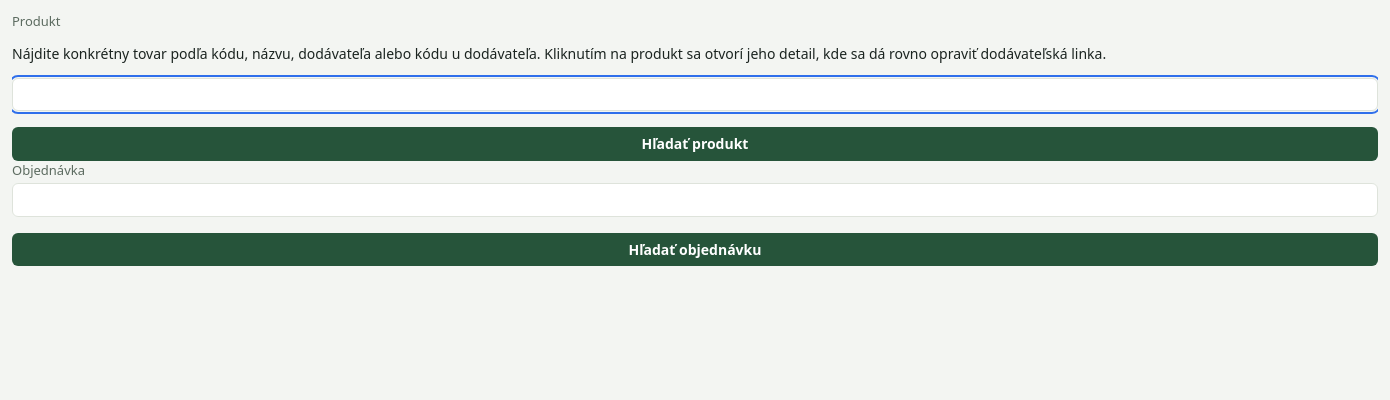
späť z detailu vráti na hľadanie
In the search field labelled "Produkt": point(695, 95) top-left (12, 78), bottom-right (1378, 111), type "PD-1"
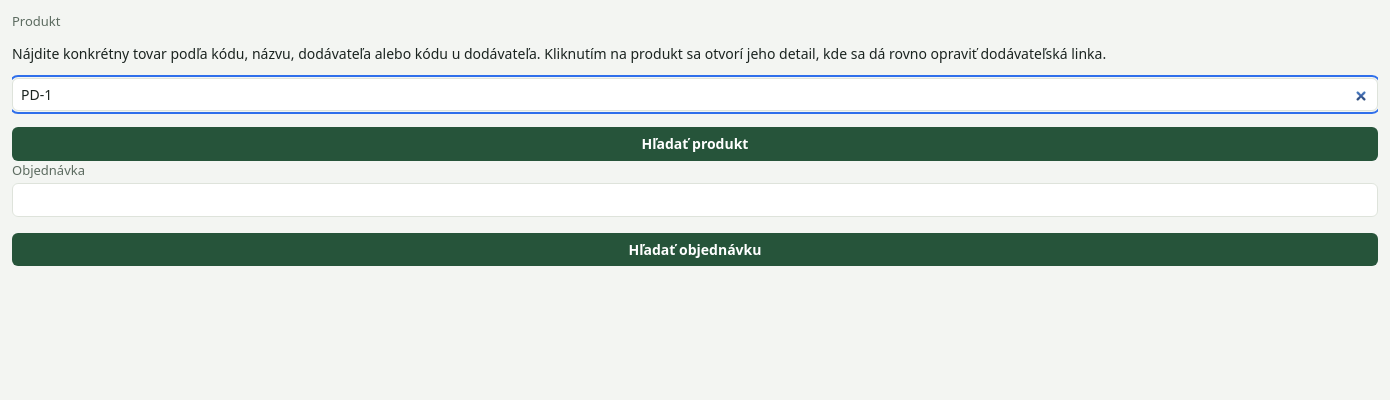
Click the button "Hľadať produkt": point(695, 144) top-left (12, 127), bottom-right (1378, 161)
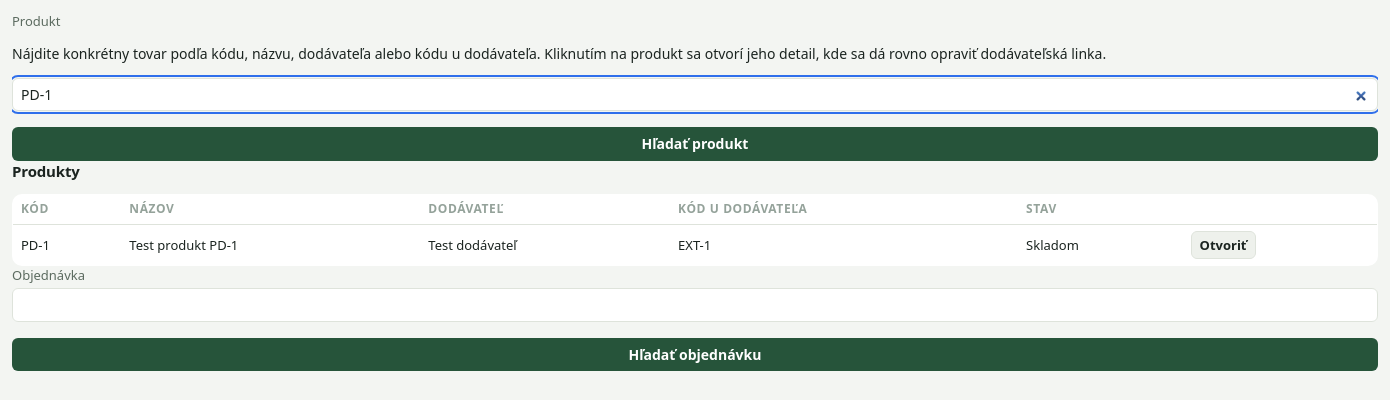
Click the button with test id "search-product-open-PD-1": point(1223, 245) top-left (1191, 231), bottom-right (1256, 259)
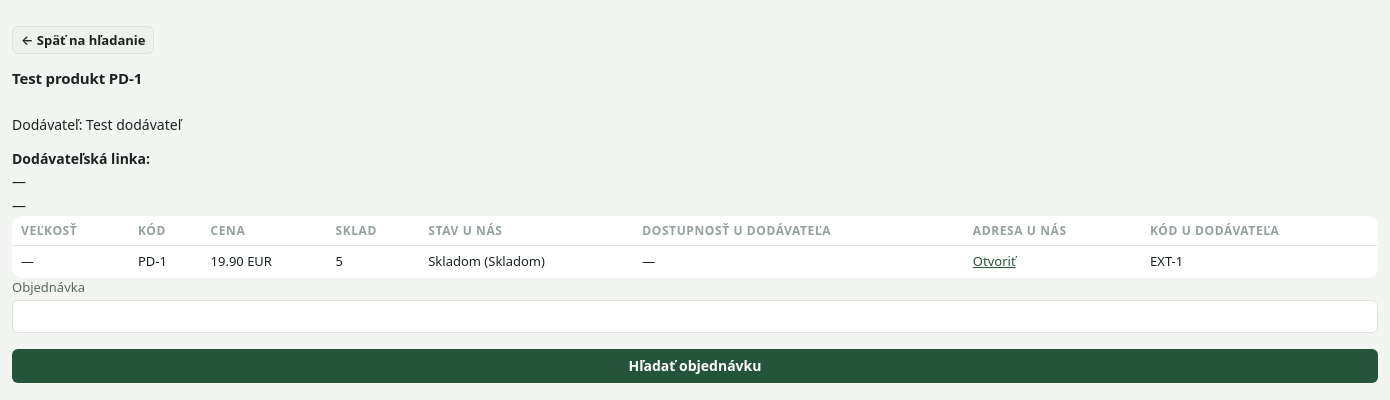
Now the element with test id "search-detail-section" is shown
Click the button with test id "search-back": point(83, 40) top-left (12, 26), bottom-right (154, 54)
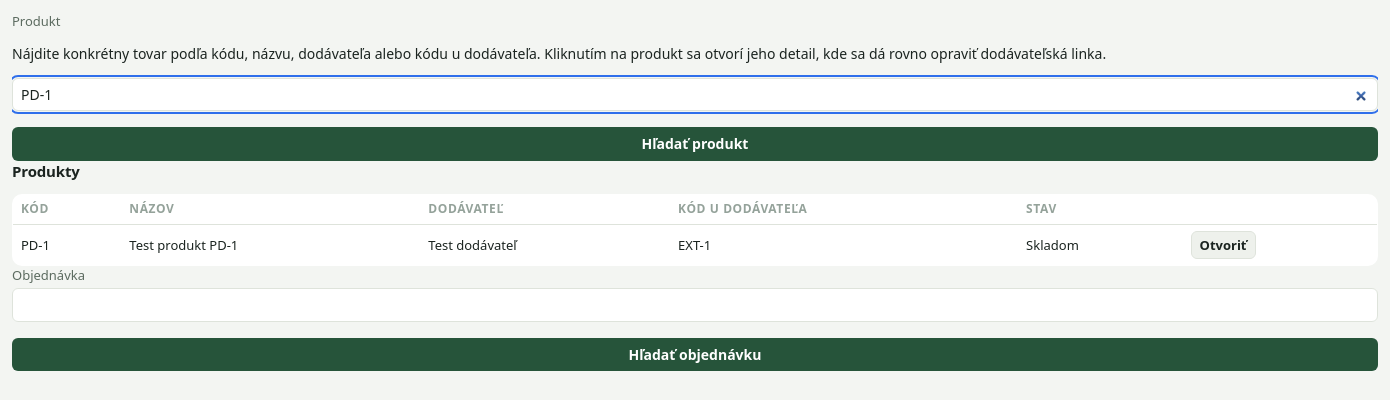
Now the element with test id "search-section" is shown
